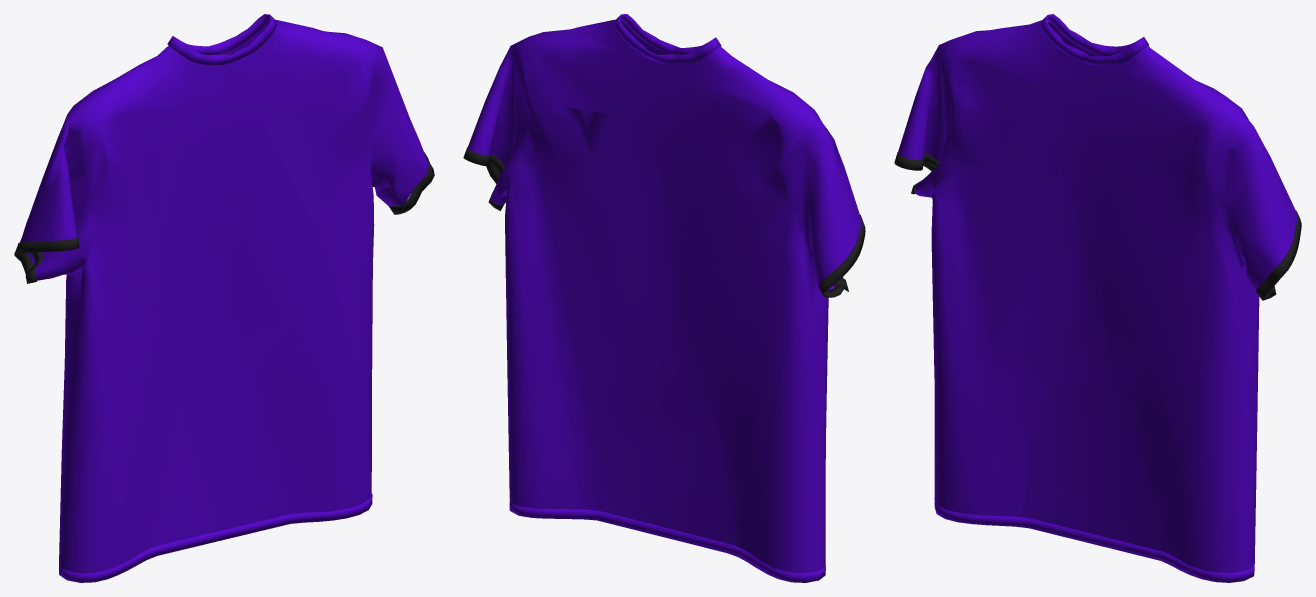
Rendered from Cloth_5.fbx.
3 renders of one model, left to right at view 1: azimuth 30°, elevation 25°; view 2: azimuth 150°, elevation 25°; view 3: azimuth 330°, elevation 25°, orthographic.
Parts seen in each view (by area): view 1: Cloth_5; view 2: Cloth_5; view 3: Cloth_5.
Boxes of the visible parts, <box> form: Cloth_5: <box>14,14,434,582</box>; Cloth_5: <box>463,14,865,582</box>; Cloth_5: <box>894,14,1301,582</box>.
Bounding box in the file's own units: 63.12 × 78.2 × 11.96.
